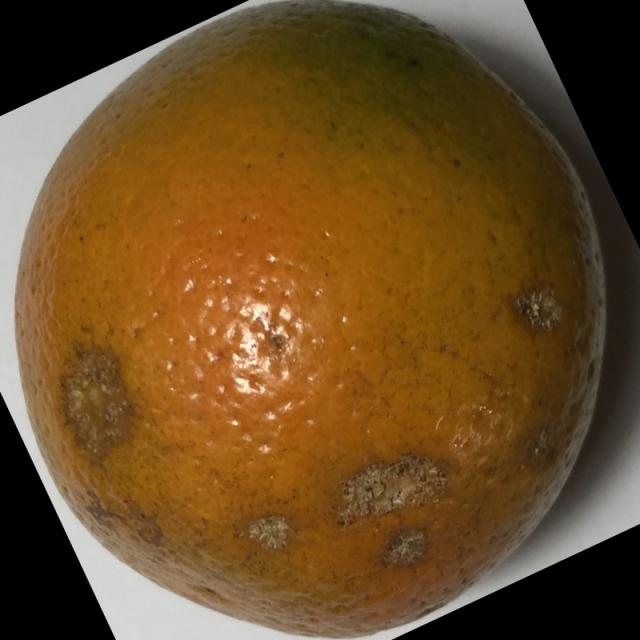canker: (12, 6, 638, 638)
